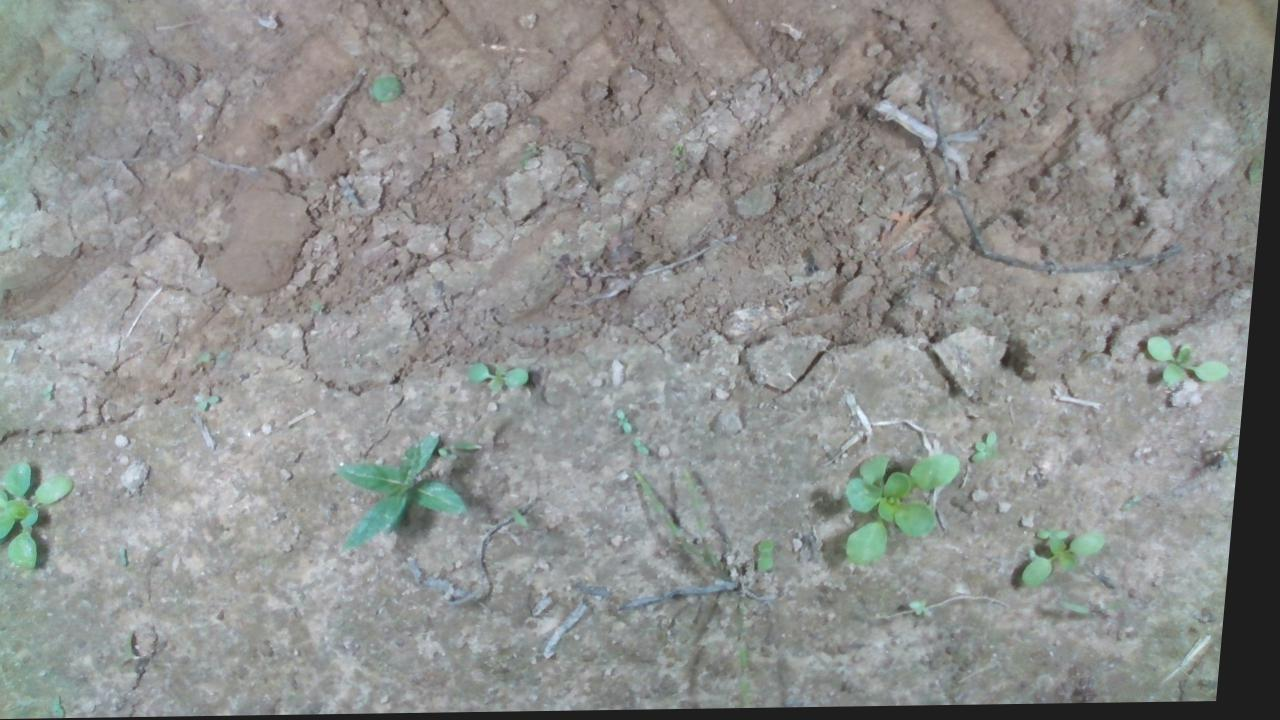weed: (1147, 336, 1239, 389), (471, 361, 537, 394), (977, 431, 1010, 466), (763, 538, 787, 574), (197, 385, 228, 411), (918, 599, 945, 621), (621, 409, 641, 436), (637, 438, 658, 458)
